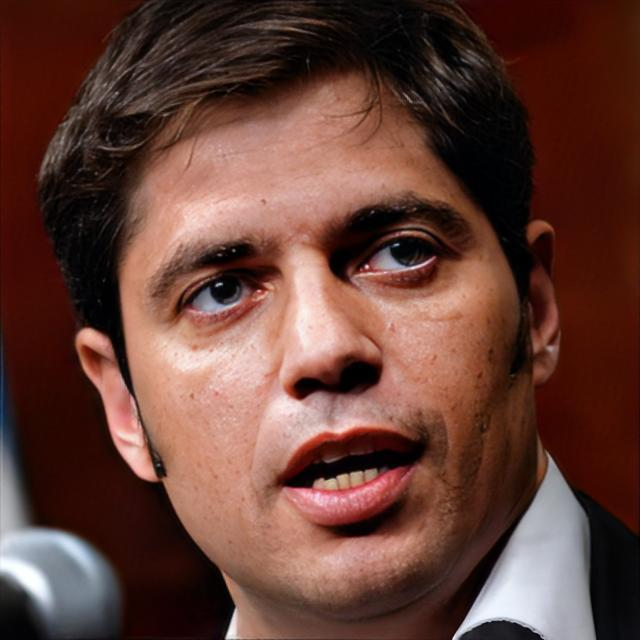surprise: (122, 75, 525, 622)
